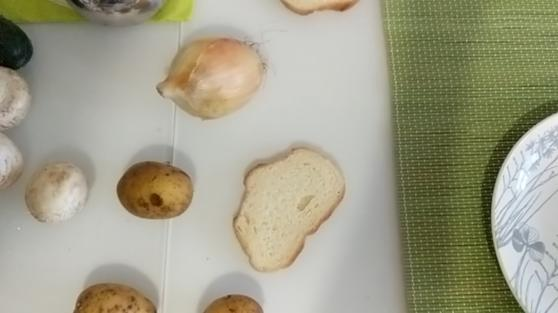champignon: (21, 162, 89, 223), (1, 71, 32, 131), (1, 130, 27, 191)
onion: (161, 31, 270, 122)
potato: (117, 158, 196, 222), (74, 283, 159, 313)
white_bread: (232, 144, 349, 277)
